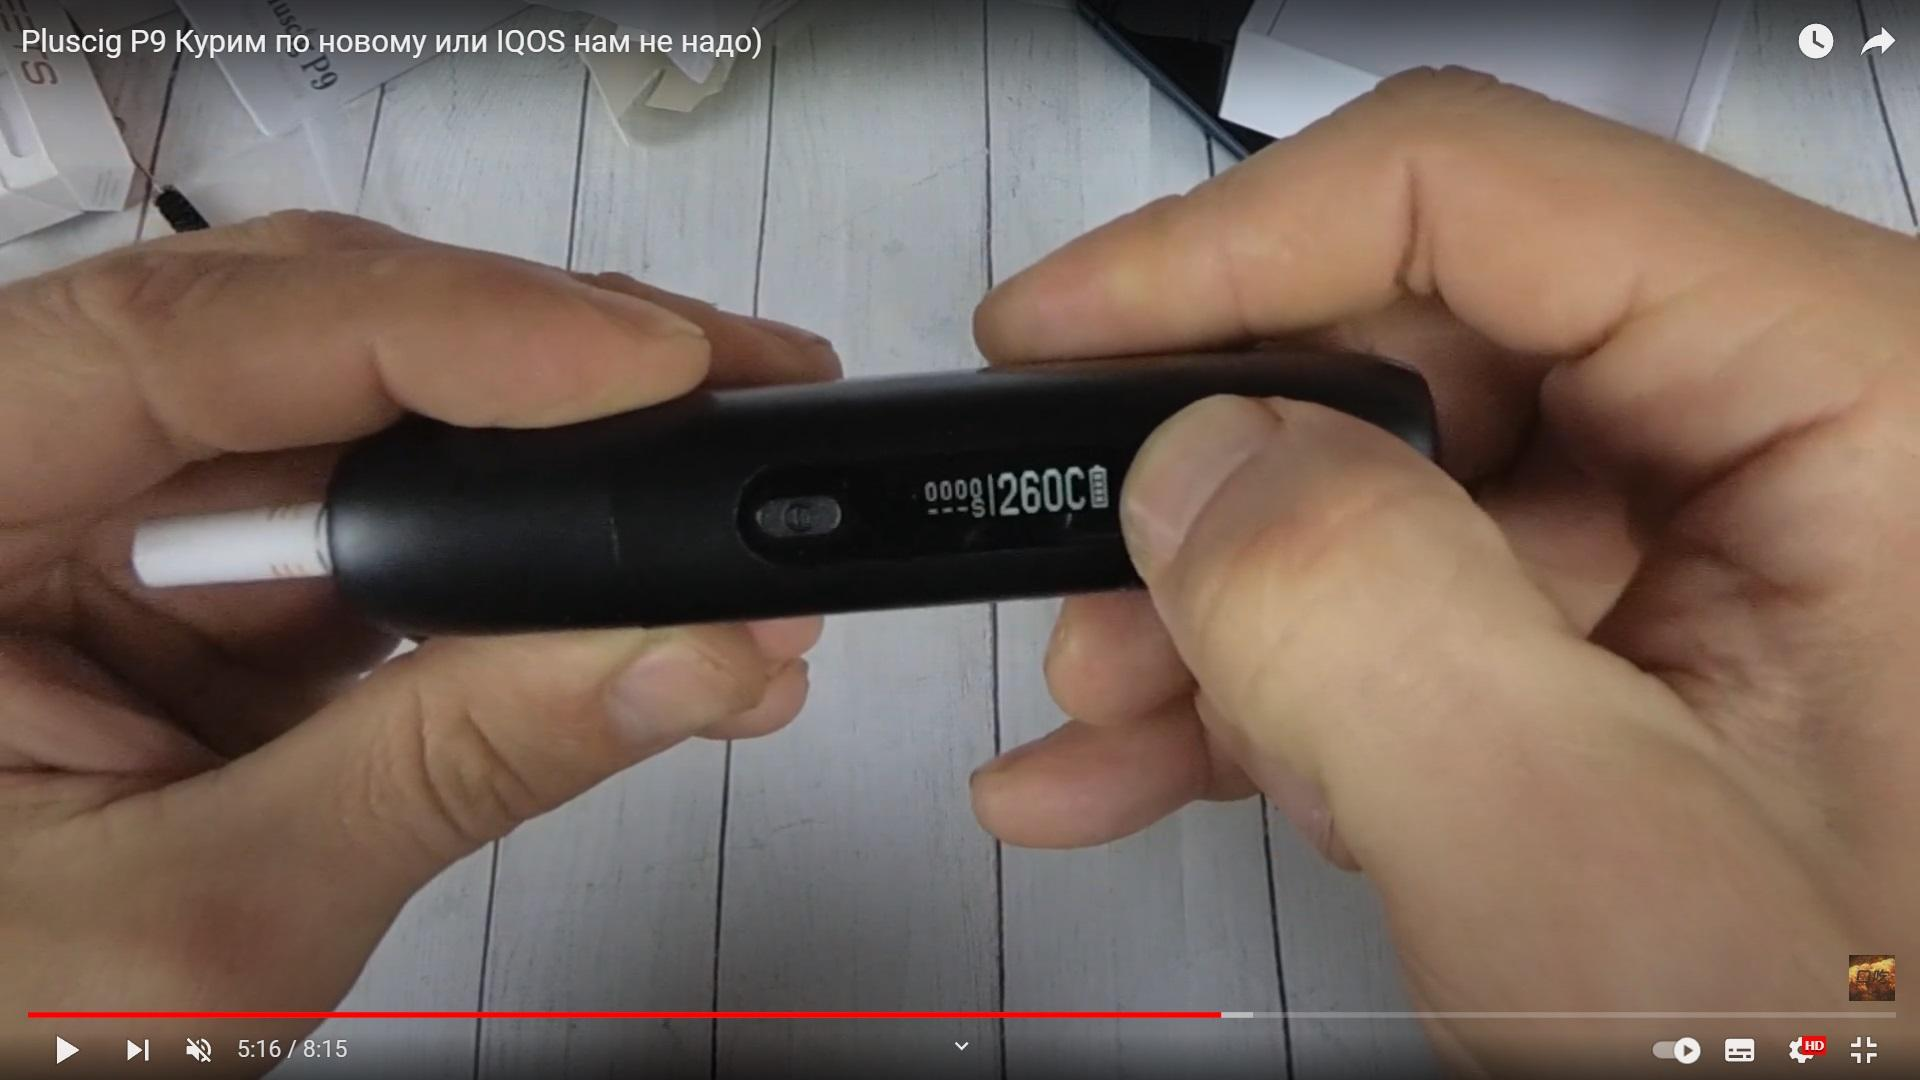iqos: (136, 344, 1437, 637)
